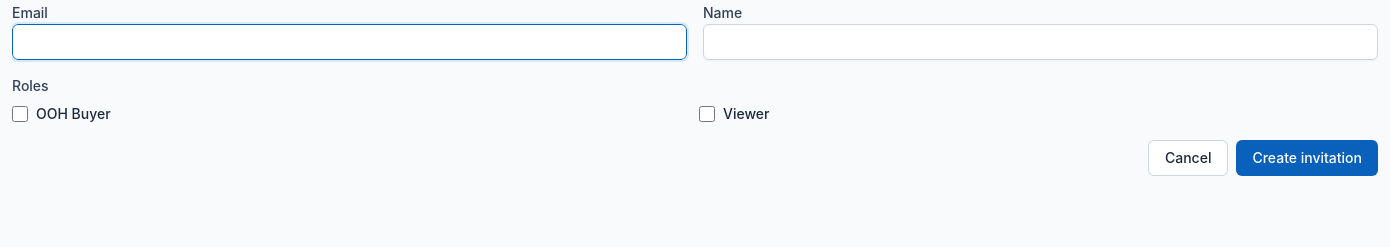
it: InviteMemberForm › shows the API’s explanation (e.g. already invited, or granting too much)
Type "ana@example.com" into the field labelled "Email" at (350, 42), box [12,24,687,60]
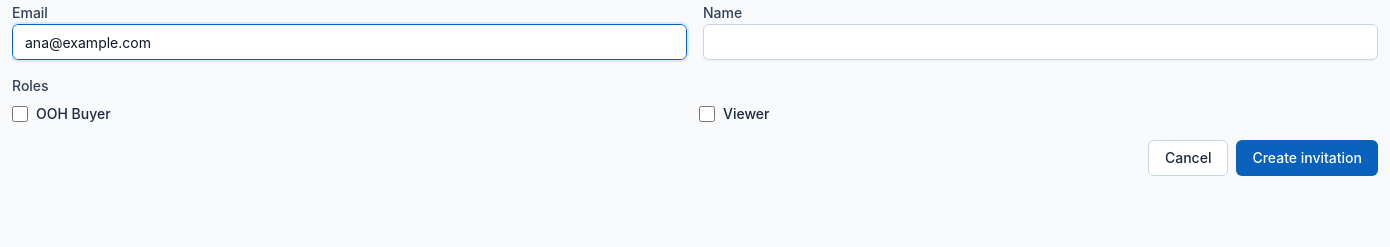
Type "Ana" into the field labelled "Name" at (1040, 42), box [703,24,1378,60]
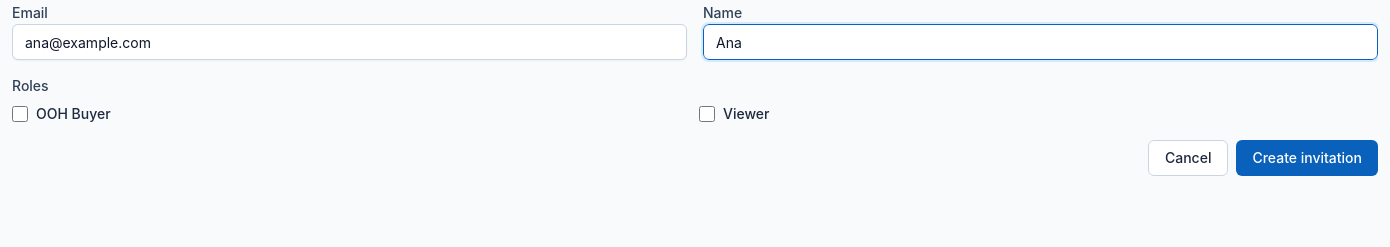
Click the checkbox labelled "Viewer" at (707, 114), box [699,106,715,122]
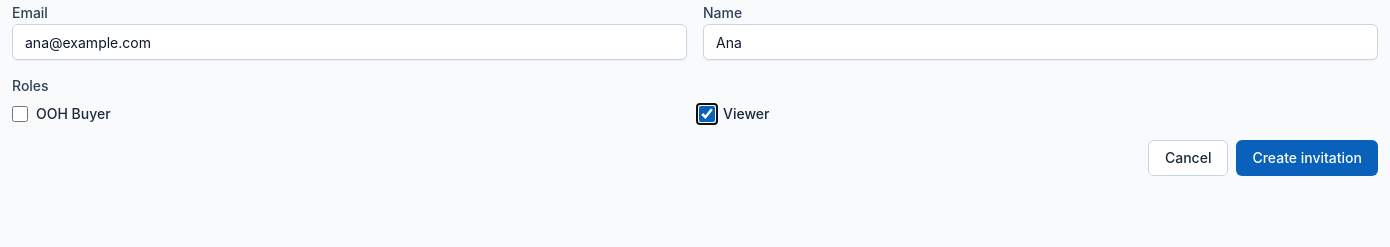
Click the button "Create invitation" at (1307, 158), box [1236,140,1378,176]
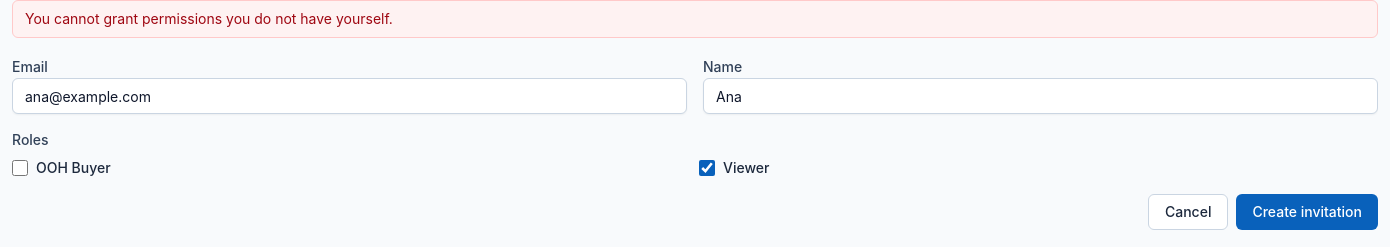
expect the message shows "cannot grant permissions": met, box [25,10,393,27]
